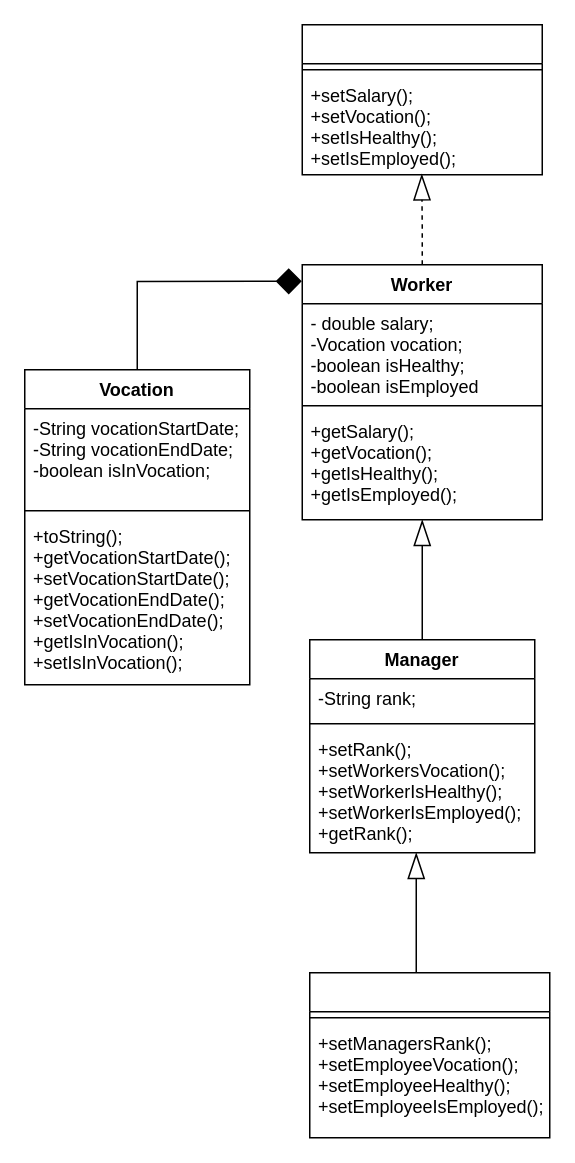
The diagram is 575 pixels wide and 1163 high, and some of its shapes have lost their labels. The shapes that lost their labels are listed below. From the top down, each one's box as (x1, y1, x2, y2) in pixels, then its label:
(301, 23, 542, 175): Employee
(308, 971, 550, 1138): HeadOfEnterprise
